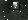person: (15, 4, 24, 14)
